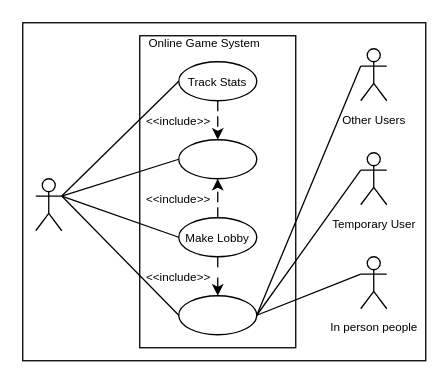
This 448x384 diagram has some shape labels left out. The centre of each missing label's shape, as x and y in pixels:
Login: point 217,158
Play Game: point 217,314
User: point 48,204
